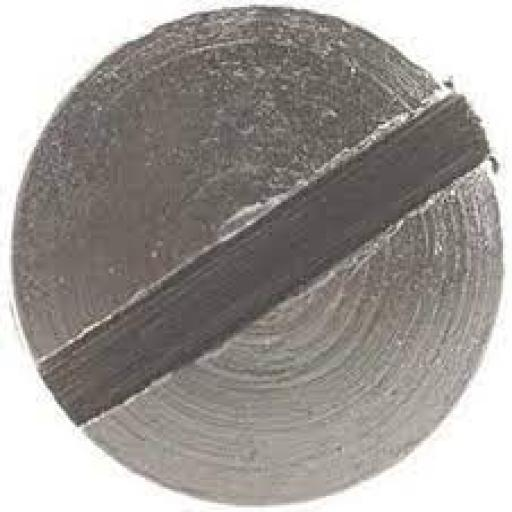Slotted: (15, 6, 502, 494)
